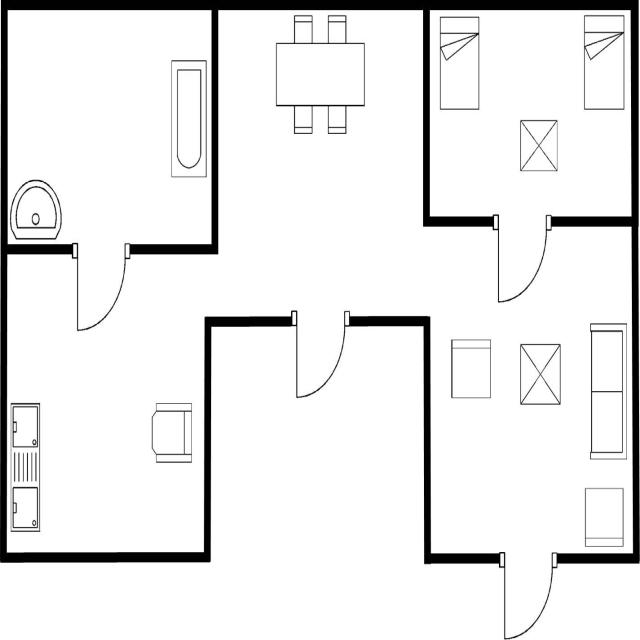armchair: (149, 398, 195, 467)
bed: (436, 13, 482, 113), (580, 12, 626, 112)
coffee_table: (518, 340, 563, 409), (516, 114, 562, 176)
dining_table: (272, 12, 368, 138)
large_sofa: (586, 319, 628, 462)
small_sink: (8, 176, 64, 242)
small_sofa: (448, 336, 494, 404), (582, 484, 625, 550)
tub: (167, 54, 209, 181)
twin_sink: (8, 399, 41, 535)
